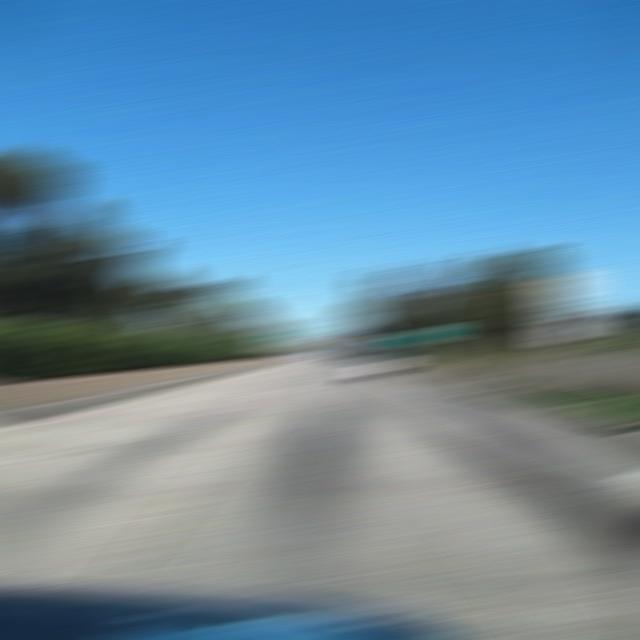speedLimit65: (536, 274, 592, 321)
